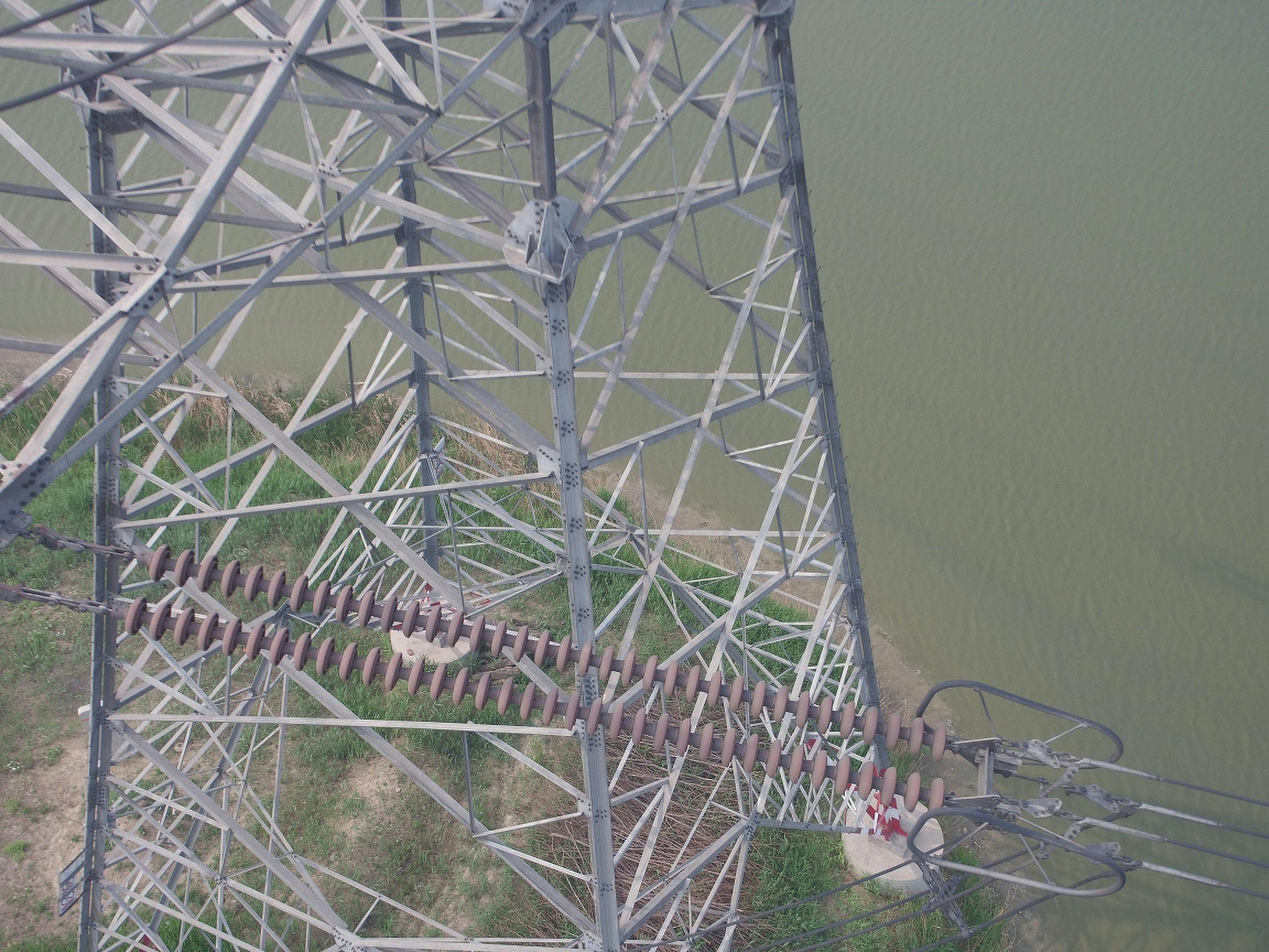insulator: (119, 540, 952, 819)
